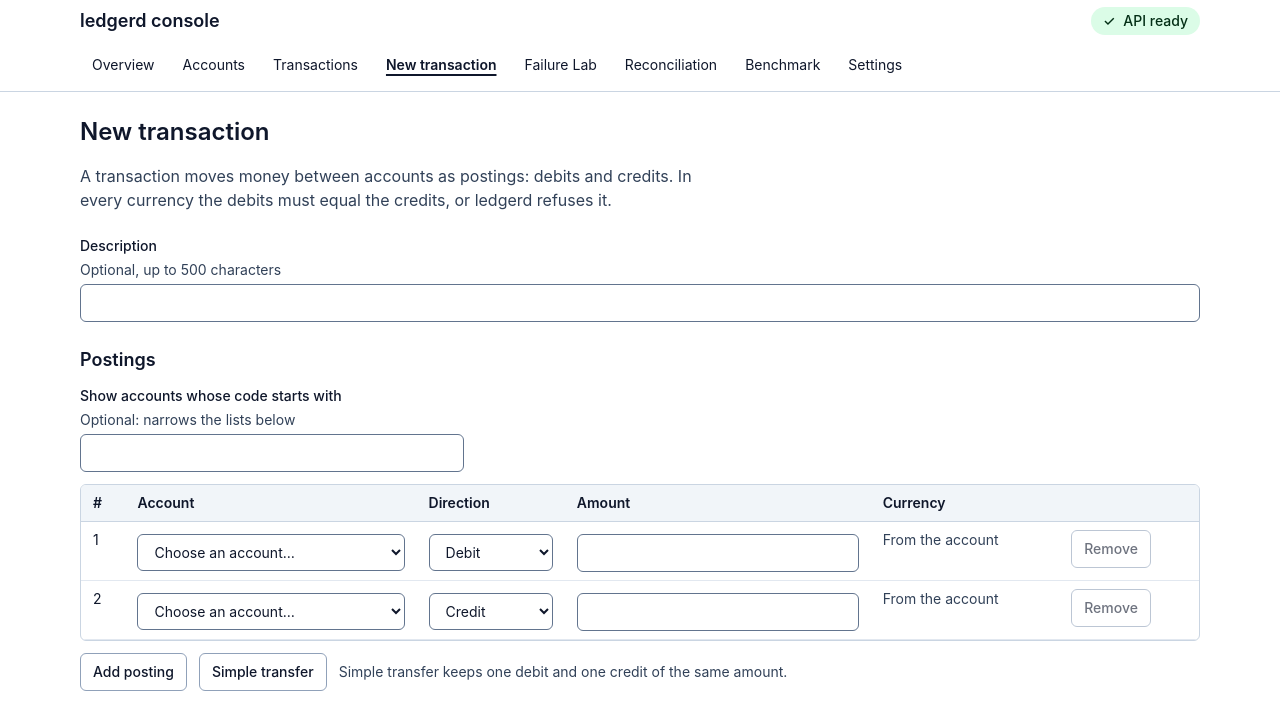
Test: sending the same request again (R7.2, R7.3) › shows a failure of the repeat, with what it means for the key
Check: the heading "New transaction" is shown, box [80,116,270,148]
Select "bank (USD)" in the 1st dropdown named "Account for posting 1" at (271, 552), box [138,534,405,571]
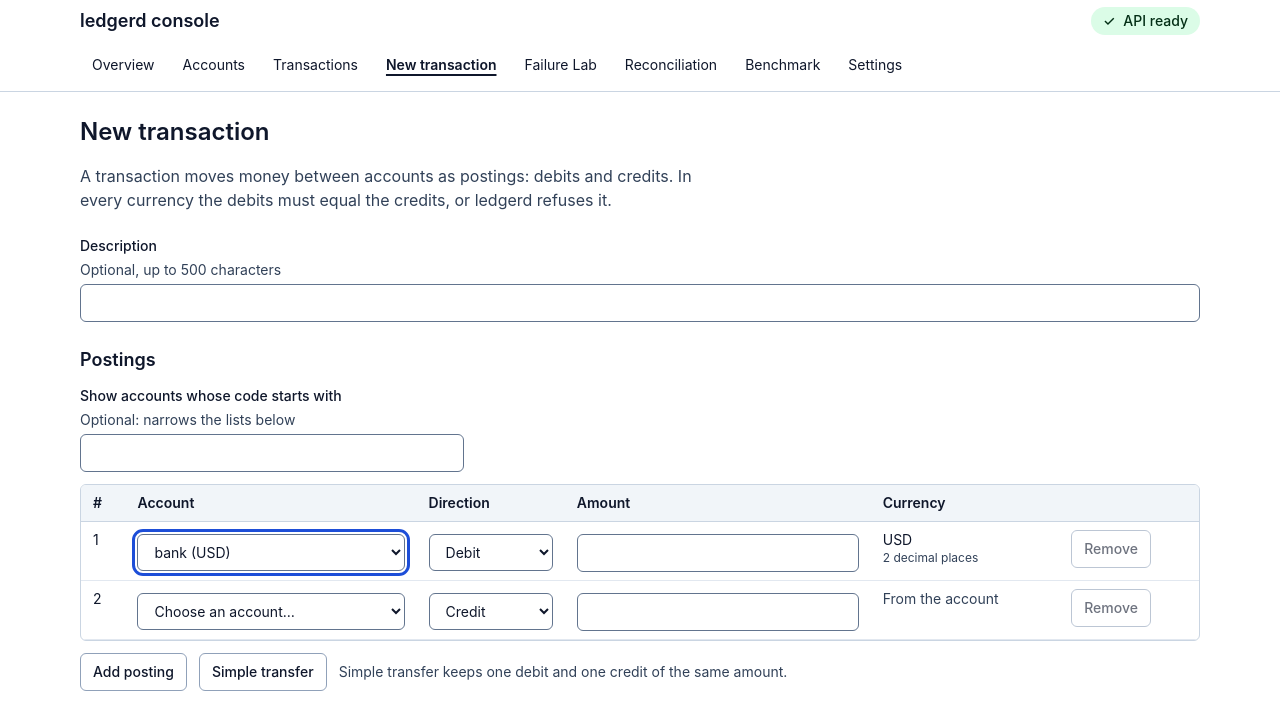
Select "wallet (USD)" in the 3rd dropdown named "Account for posting 2" at (271, 612), box [138,593,405,630]
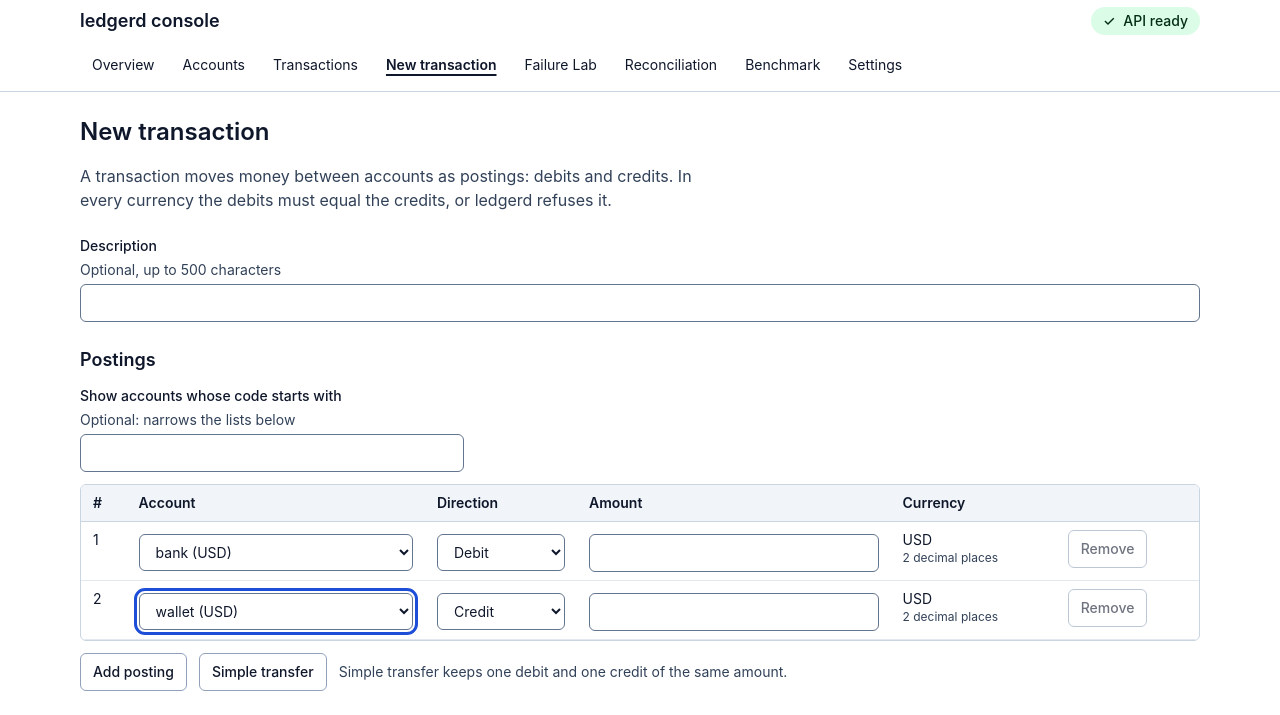
Type "100" into the 3rd field.
click(734, 553); type("100")  # box [589,534,879,572]
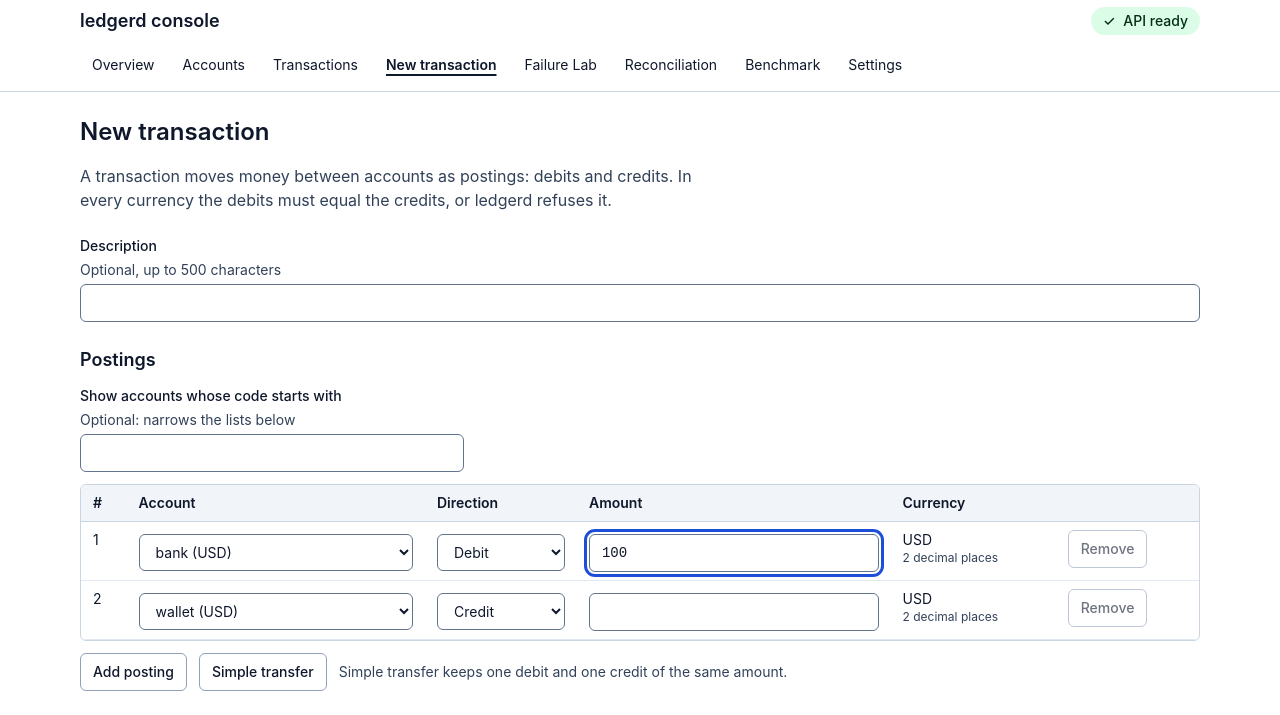
Type "100" into the 4th field.
click(734, 612); type("100")  # box [589,593,879,631]
(page scrolled)
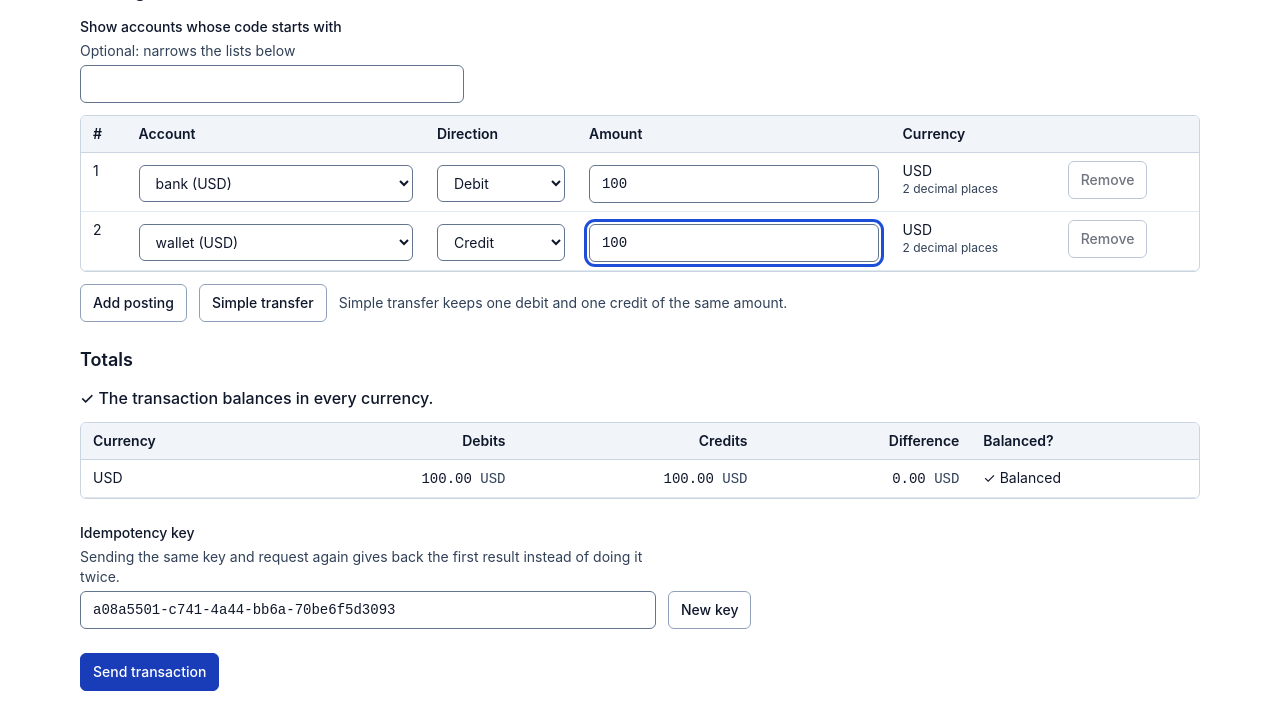
Click the button "Send transaction".
click(150, 672)  # box [80,653,219,691]
(page scrolled)
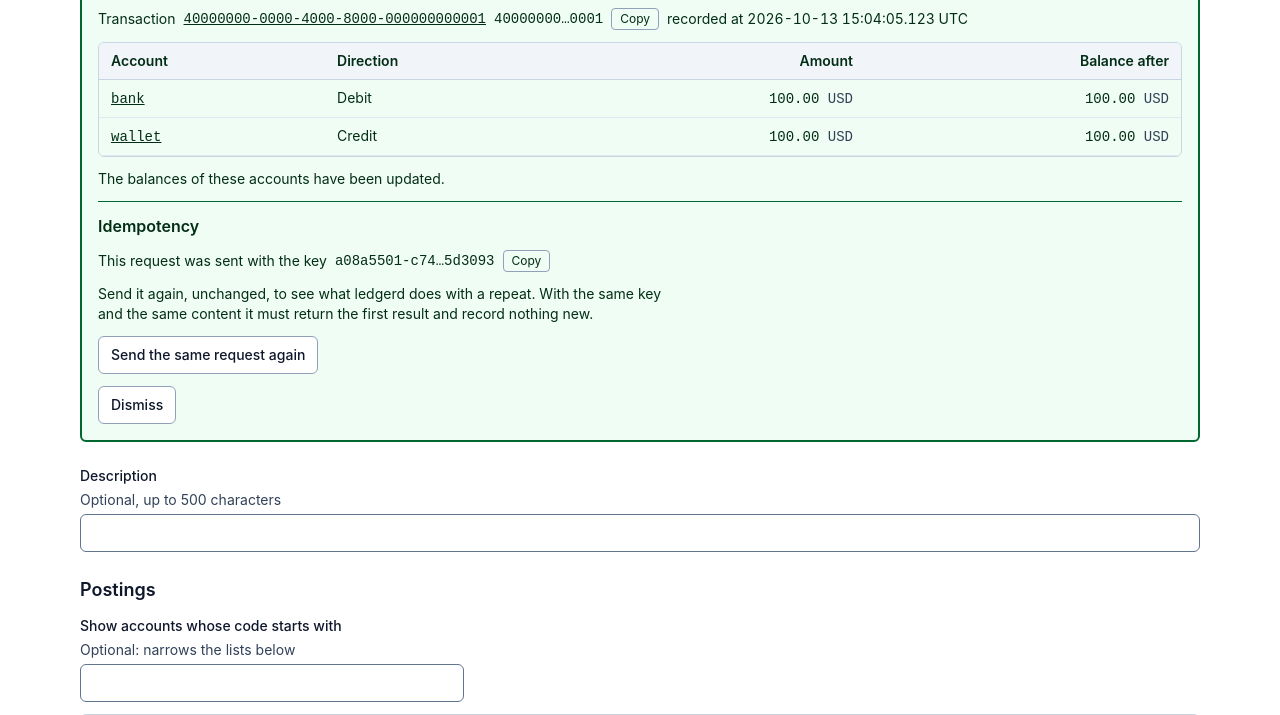
Click the button "Send the same request again".
click(208, 355)  # box [98,336,318,374]
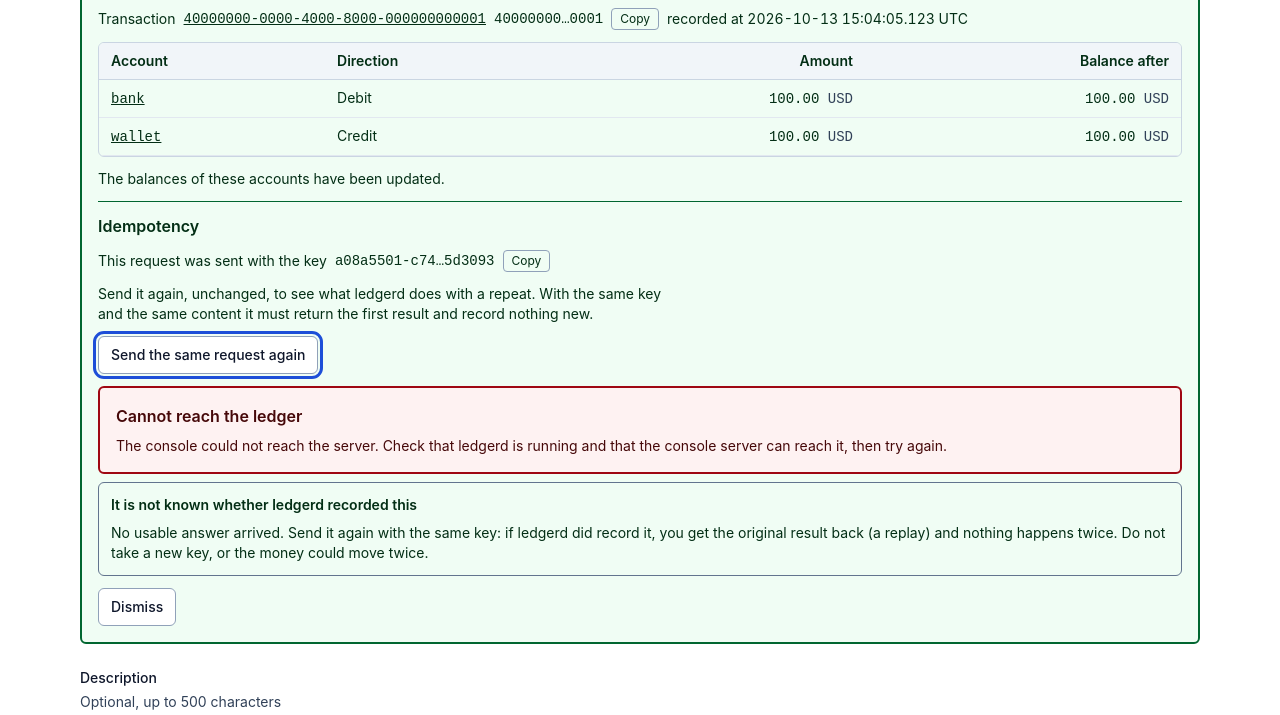
Check: the text "Cannot reach the ledger" is shown, box [116,406,302,426]
Check: the text "It is not known whether ledgerd recorded this" is shown, box [111,496,417,513]
